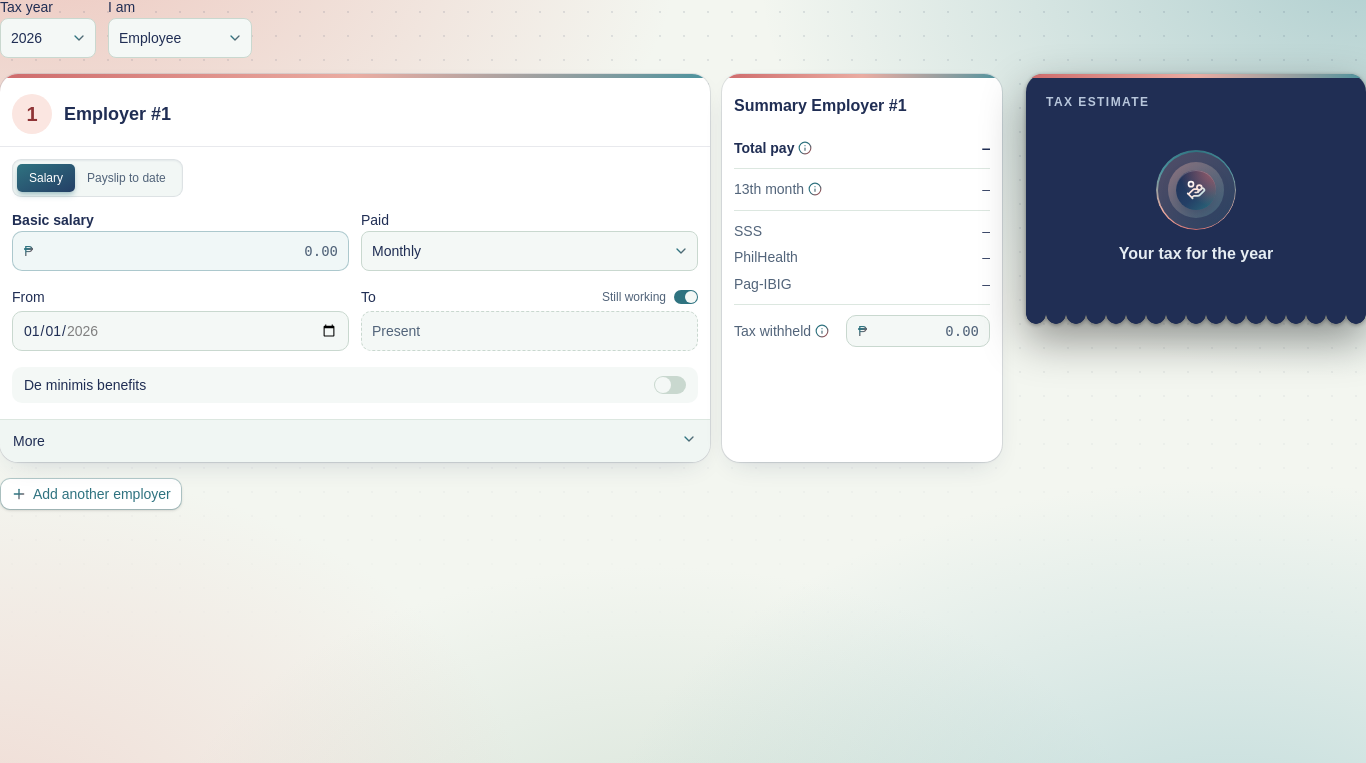
Test: MyYear: who it is for › shows both for mixed income
Click the dropdown named "I am".
click(180, 38)  # box [108,18,252,58]
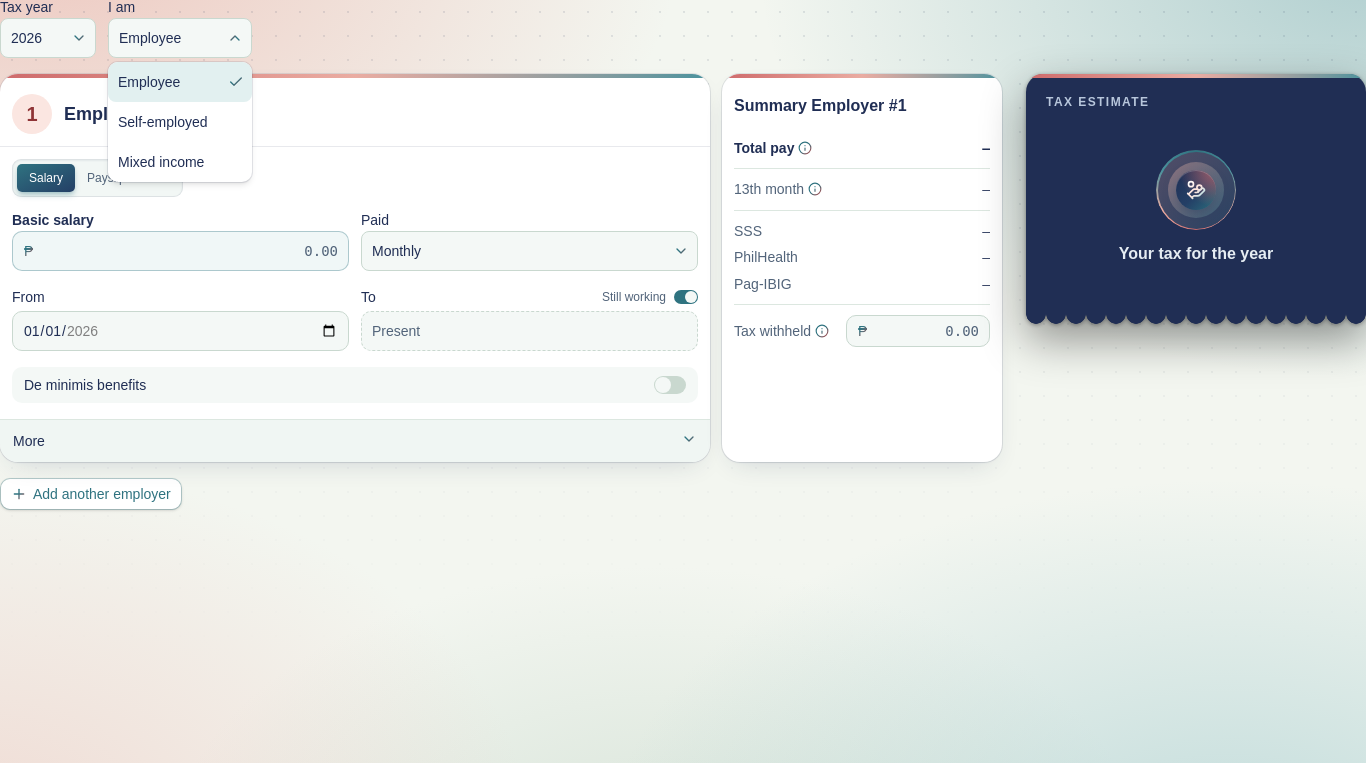
Click the option "Mixed income".
click(161, 162)  # box [118,154,204,170]
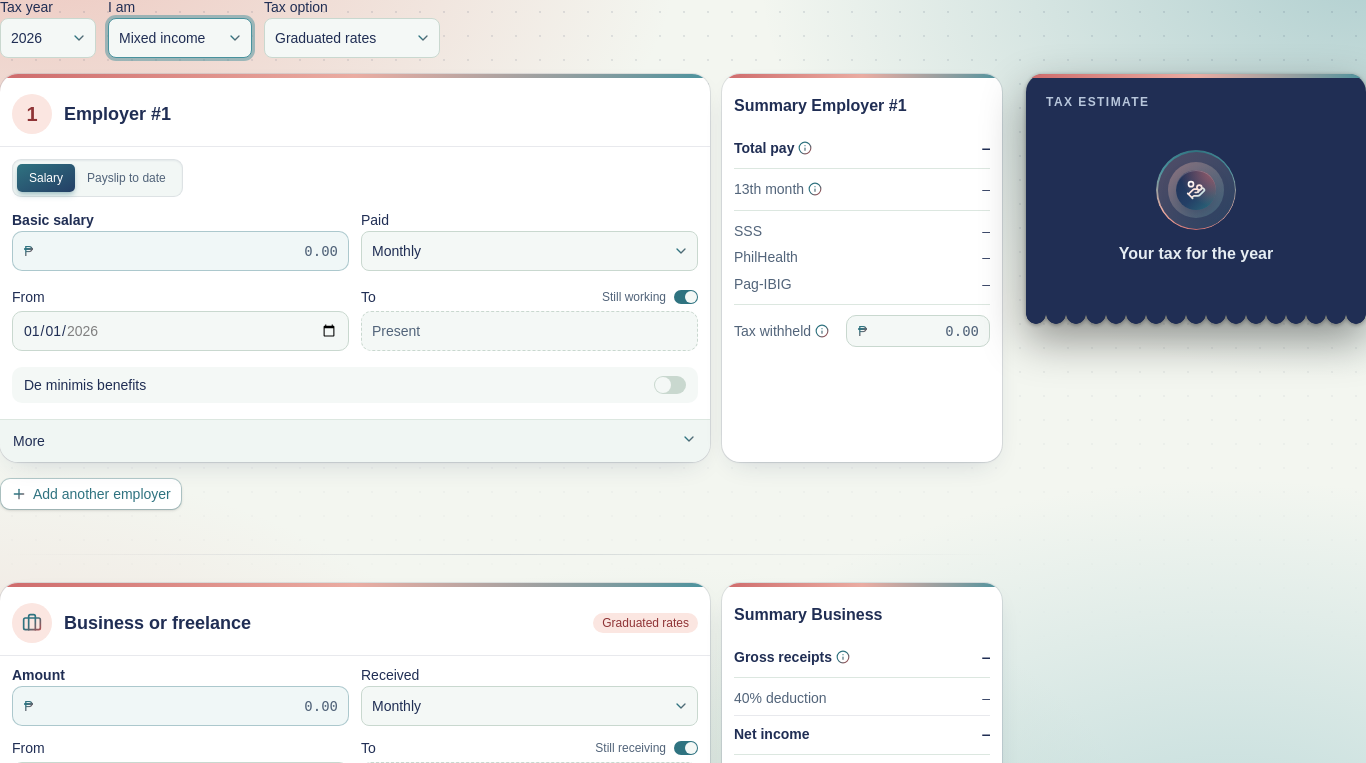
Expected: the text "Employer #1" is shown, [64,103,171,125]
Now the text "Business or freelance" is shown, box [64,612,251,634]
